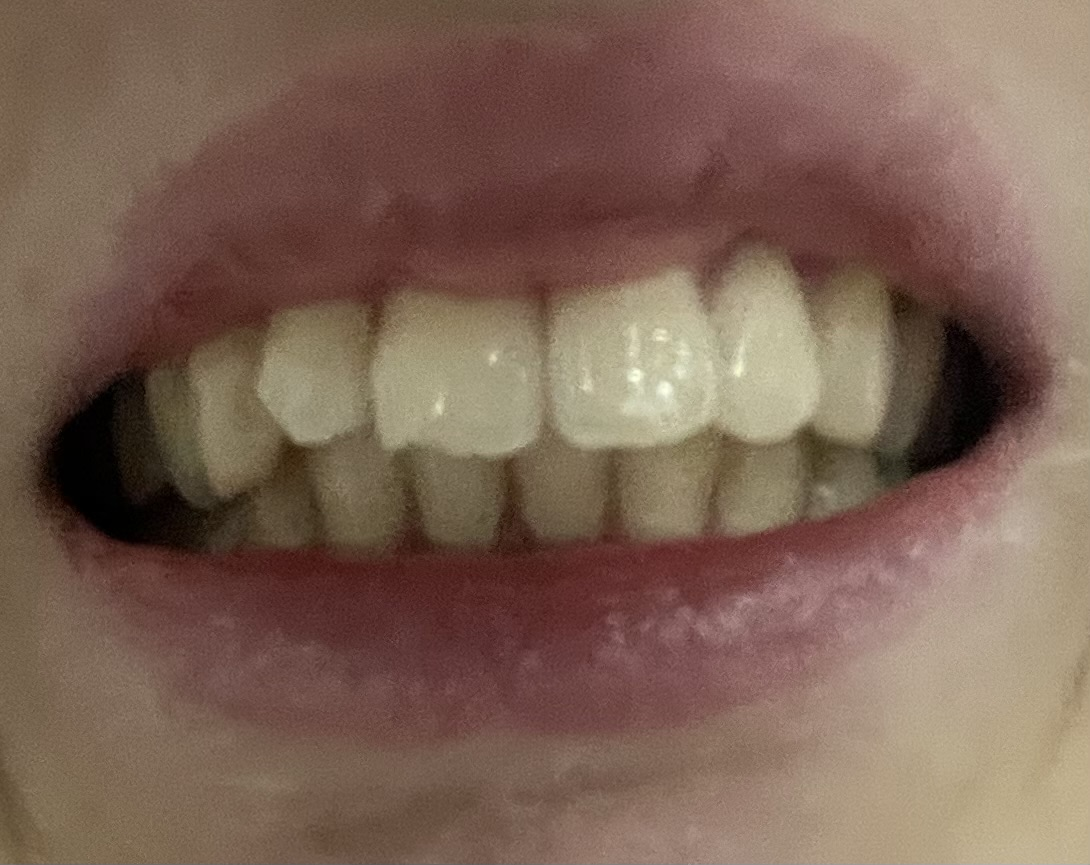teeth: (551, 265, 724, 441), (375, 289, 542, 457), (711, 237, 816, 441), (261, 304, 373, 439), (814, 264, 896, 444), (198, 334, 275, 490), (150, 357, 219, 507), (316, 431, 401, 552), (614, 432, 714, 534), (514, 433, 609, 537), (409, 451, 509, 549), (880, 303, 941, 453), (716, 442, 811, 532), (107, 382, 168, 502), (807, 451, 907, 520), (248, 453, 315, 542)
